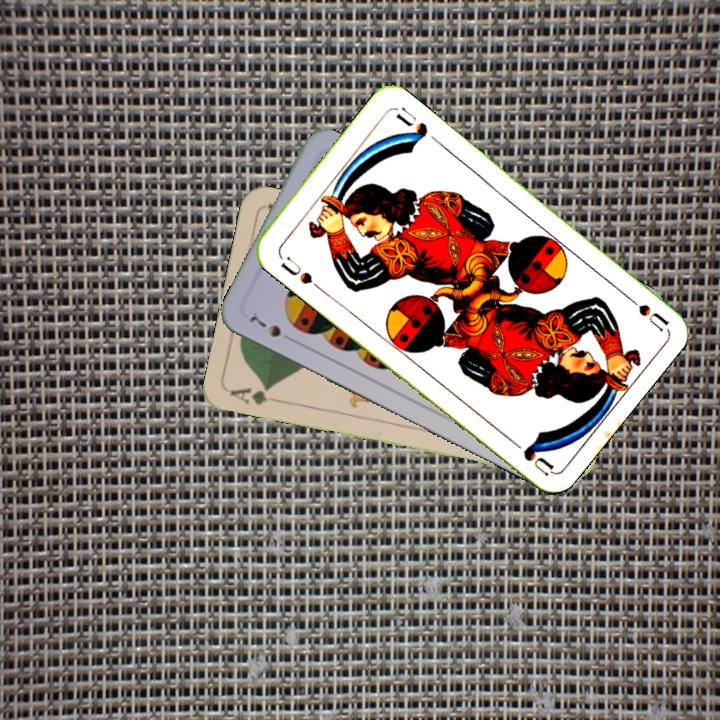GA: (226, 382, 285, 408)
S7: (245, 311, 297, 345)
SU: (617, 287, 670, 333), (274, 250, 324, 293)
